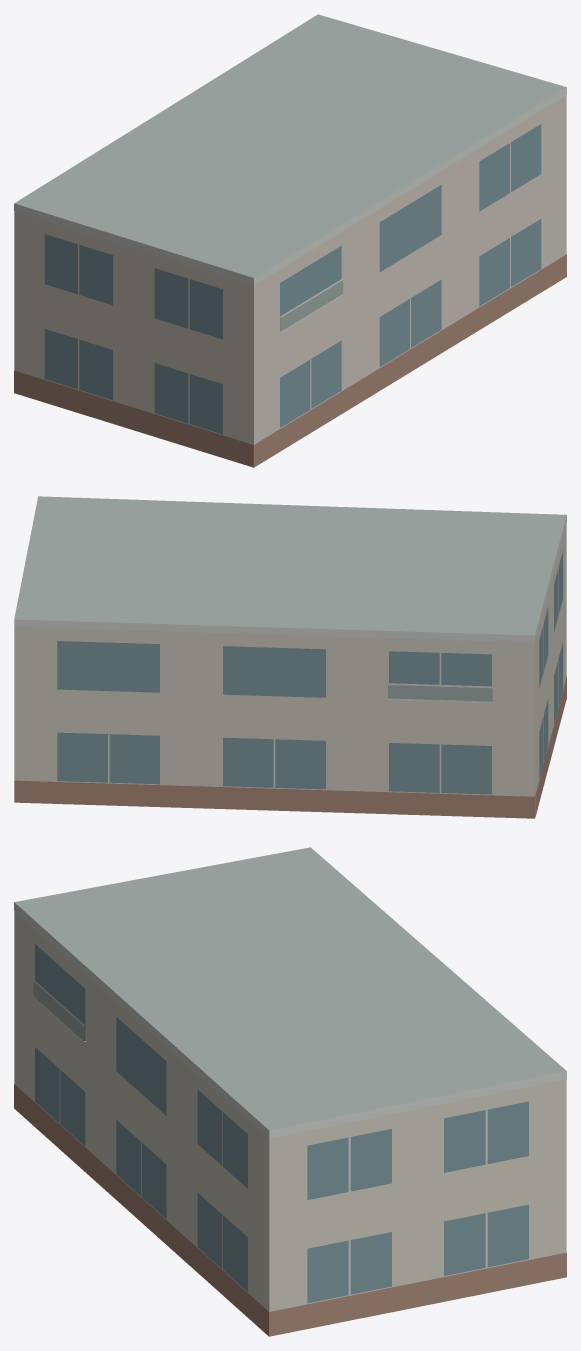
File: survey-upis-32698022.glb
3 views of the same model, one above another, from view 1: azimuth 30°, elevation 25°; view 2: azimuth 150°, elevation 25°; view 3: azimuth 270°, elevation 25° (orthographic). The views are drawn at different scales.
Visible parts, largest first — view 1: survey-upis-32698022.tmp; view 2: survey-upis-32698022.tmp; view 3: survey-upis-32698022.tmp.
Part boxes in pixels (<box>): survey-upis-32698022.tmp: <box>14,14,566,467</box>; survey-upis-32698022.tmp: <box>14,496,566,818</box>; survey-upis-32698022.tmp: <box>14,847,566,1336</box>.
Bounding box in the file's own units: 17.97 × 6.1 × 14.82.
